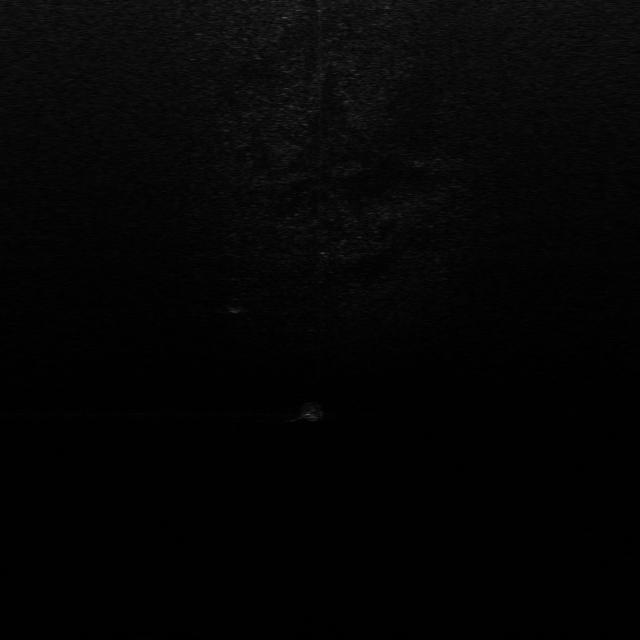ball: (298, 400, 327, 421)
circle cage: (224, 298, 250, 314)
